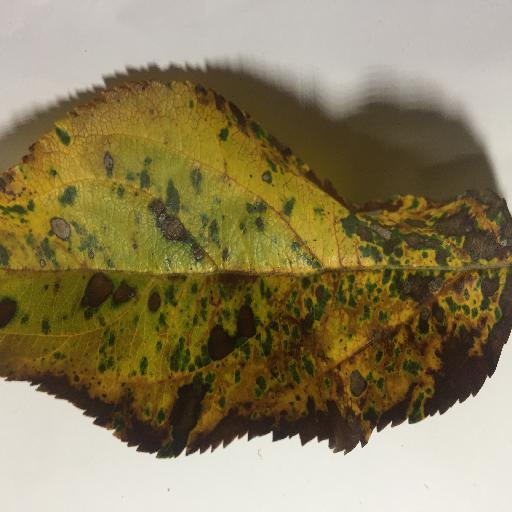Brown_Spot: (2, 47, 512, 476)
